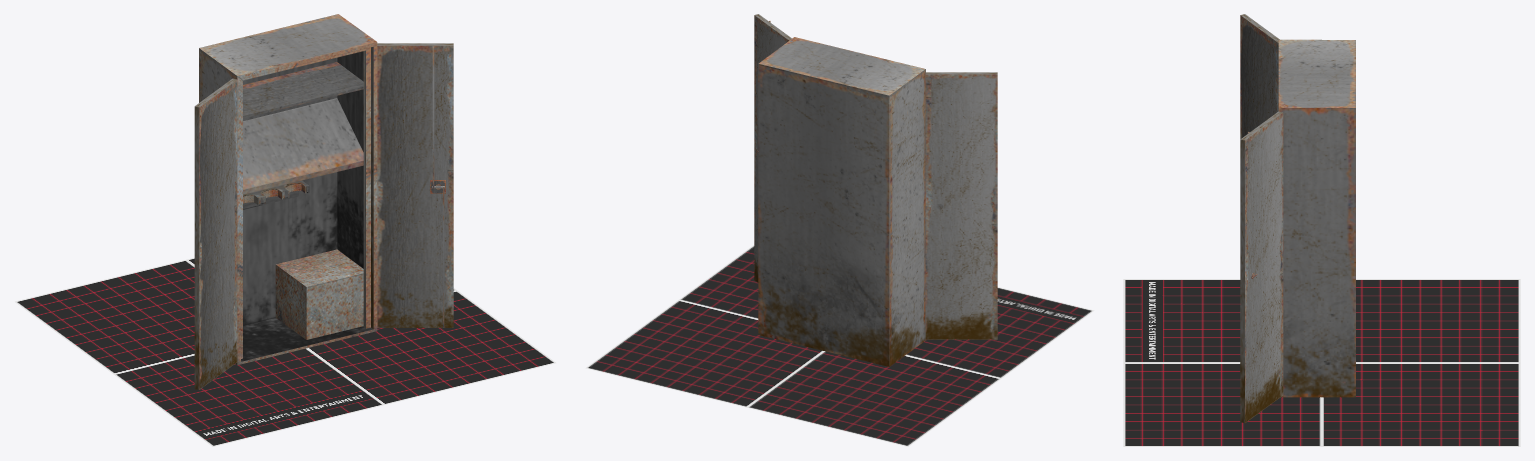
Rendered from Weapon_Locker.fbx.
3 views of the same model, side by side, from view 1: azimuth 30°, elevation 25°; view 2: azimuth 150°, elevation 25°; view 3: azimuth 270°, elevation 25° (orthographic). The views are drawn at different scales.
Parts seen in each view (by area): view 1: SM_Locker, floor_grid; view 2: SM_Locker, floor_grid; view 3: floor_grid, SM_Locker.
Boxes of the visible parts, x1,y1,x2,y2 form: SM_Locker: [194, 14, 453, 389]; floor_grid: [15, 257, 555, 446]; SM_Locker: [754, 14, 997, 366]; floor_grid: [585, 245, 1094, 446]; floor_grid: [1123, 279, 1520, 446]; SM_Locker: [1240, 14, 1355, 423].
Size of the model in its own units: 200 by 161 by 200.
Materials: 2 (2 with a texture image).
